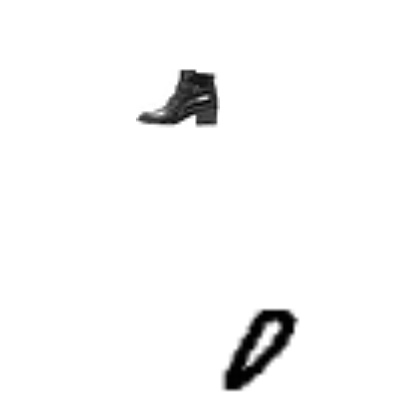2: (344, 116, 366, 138)
4: (200, 139, 214, 153)
7: (361, 354, 383, 376)
9: (94, 211, 136, 253)
Sandal: (237, 85, 265, 113)
Shirt: (228, 194, 312, 278)
